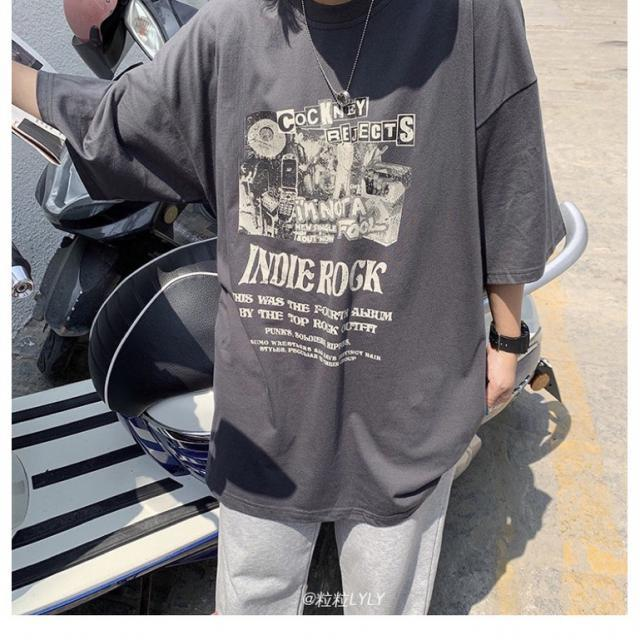Shirt: (34, 4, 575, 531)
